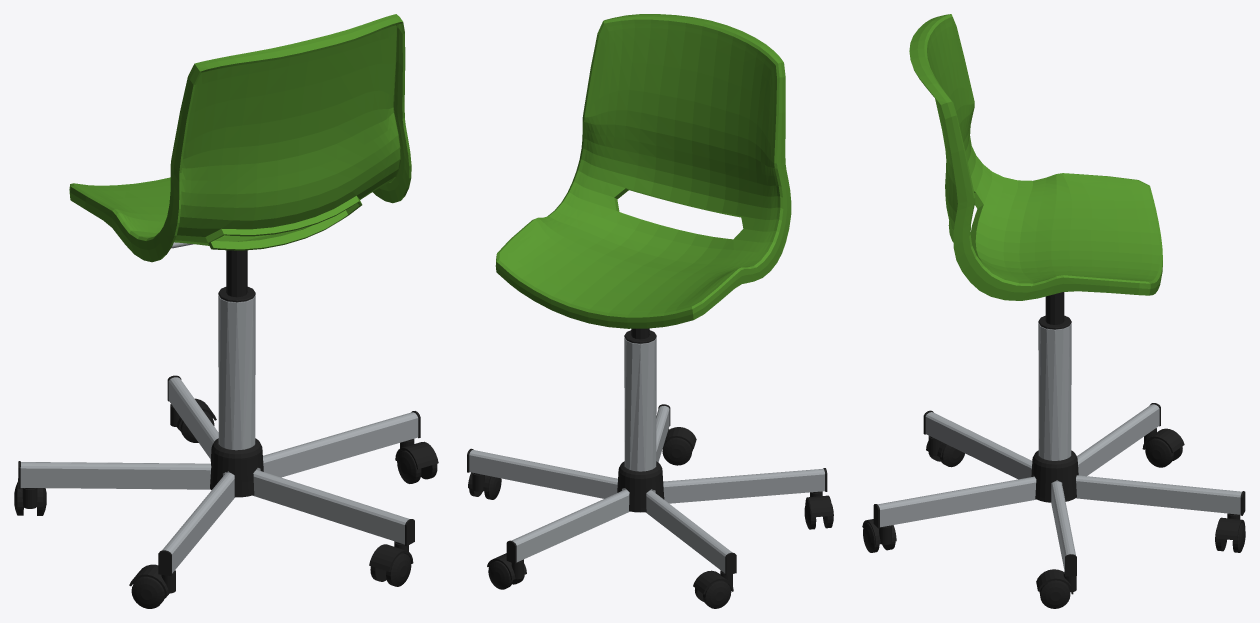
3 views of the same model, side by side, from view 1: azimuth 30°, elevation 25°; view 2: azimuth 150°, elevation 25°; view 3: azimuth 270°, elevation 25° (orthographic). The views are drawn at different scales.
Visible parts, largest first — view 1: Mesh2 Group2 SNILLE_IKEA1 Model, Mesh8 Group6 SNILLE_IKEA1 Model, Mesh7 Group5 SNILLE_IKEA1 Model, Mesh1 Group1 SNILLE_IKEA1 Model, Mesh3 Group3 SNILLE_IKEA1 Model, Mesh20 ROULETTE4 SNILLE_IKEA1 Model, Mesh15 ROULETTE3 SNILLE_IKEA1 Model, Mesh12 ROULETTE2 SNILLE_IKEA1 Model, Mesh14 ROULETTE2 SNILLE_IKEA1 Model, Mesh18 ROULETTE4 SNILLE_IKEA1 Model, Mesh16 ROULETTE3 SNILLE_IKEA1 Model; view 2: Mesh2 Group2 SNILLE_IKEA1 Model, Mesh8 Group6 SNILLE_IKEA1 Model, Mesh7 Group5 SNILLE_IKEA1 Model, Mesh1 Group1 SNILLE_IKEA1 Model, Mesh13 ROULETTE2 SNILLE_IKEA1 Model, Mesh11 ROULETTE1 SNILLE_IKEA1 Model, Mesh18 ROULETTE4 SNILLE_IKEA1 Model, Mesh9 ROULETTE1 SNILLE_IKEA1 Model, Mesh23 ROULETTE5 SNILLE_IKEA1 Model; view 3: Mesh2 Group2 SNILLE_IKEA1 Model, Mesh8 Group6 SNILLE_IKEA1 Model, Mesh7 Group5 SNILLE_IKEA1 Model, Mesh1 Group1 SNILLE_IKEA1 Model, Mesh3 Group3 SNILLE_IKEA1 Model, Mesh17 ROULETTE3 SNILLE_IKEA1 Model, Mesh10 ROULETTE1 SNILLE_IKEA1 Model, Mesh21 ROULETTE5 SNILLE_IKEA1 Model, Mesh9 ROULETTE1 SNILLE_IKEA1 Model, Mesh15 ROULETTE3 SNILLE_IKEA1 Model.
Part boxes in pixels (box(x1,y1,x2,y2)): Mesh2 Group2 SNILLE_IKEA1 Model: box(69, 14, 411, 262); Mesh8 Group6 SNILLE_IKEA1 Model: box(18, 375, 420, 575); Mesh7 Group5 SNILLE_IKEA1 Model: box(218, 295, 255, 450); Mesh1 Group1 SNILLE_IKEA1 Model: box(210, 438, 263, 497); Mesh3 Group3 SNILLE_IKEA1 Model: box(218, 250, 255, 302); Mesh20 ROULETTE4 SNILLE_IKEA1 Model: box(131, 576, 165, 608); Mesh15 ROULETTE3 SNILLE_IKEA1 Model: box(395, 439, 438, 469); Mesh12 ROULETTE2 SNILLE_IKEA1 Model: box(369, 541, 413, 571); Mesh14 ROULETTE2 SNILLE_IKEA1 Model: box(386, 553, 411, 586); Mesh18 ROULETTE4 SNILLE_IKEA1 Model: box(129, 564, 175, 595); Mesh16 ROULETTE3 SNILLE_IKEA1 Model: box(397, 450, 421, 483); Mesh2 Group2 SNILLE_IKEA1 Model: box(495, 14, 791, 328); Mesh8 Group6 SNILLE_IKEA1 Model: box(467, 404, 827, 575); Mesh7 Group5 SNILLE_IKEA1 Model: box(624, 337, 656, 471); Mesh1 Group1 SNILLE_IKEA1 Model: box(617, 461, 664, 512); Mesh13 ROULETTE2 SNILLE_IKEA1 Model: box(662, 437, 692, 465); Mesh11 ROULETTE1 SNILLE_IKEA1 Model: box(703, 580, 731, 608); Mesh18 ROULETTE4 SNILLE_IKEA1 Model: box(805, 491, 832, 517); Mesh9 ROULETTE1 SNILLE_IKEA1 Model: box(693, 570, 733, 594); Mesh23 ROULETTE5 SNILLE_IKEA1 Model: box(488, 560, 512, 589); Mesh2 Group2 SNILLE_IKEA1 Model: box(909, 14, 1162, 300); Mesh8 Group6 SNILLE_IKEA1 Model: box(873, 403, 1245, 576); Mesh7 Group5 SNILLE_IKEA1 Model: box(1038, 323, 1071, 460); Mesh1 Group1 SNILLE_IKEA1 Model: box(1031, 450, 1078, 502); Mesh3 Group3 SNILLE_IKEA1 Model: box(1038, 292, 1071, 329); Mesh17 ROULETTE3 SNILLE_IKEA1 Model: box(1039, 580, 1070, 608); Mesh10 ROULETTE1 SNILLE_IKEA1 Model: box(1145, 438, 1173, 467); Mesh21 ROULETTE5 SNILLE_IKEA1 Model: box(1215, 513, 1245, 540); Mesh9 ROULETTE1 SNILLE_IKEA1 Model: box(1142, 428, 1184, 452); Mesh15 ROULETTE3 SNILLE_IKEA1 Model: box(1036, 569, 1076, 594).
Bounding box in the file's own units: 0.5746 × 0.8219 × 0.5974.
